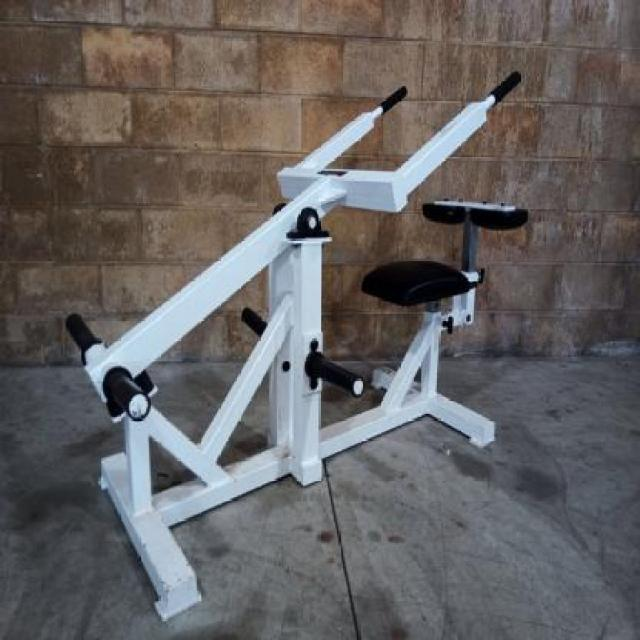seated dip machine: (61, 73, 528, 622)
